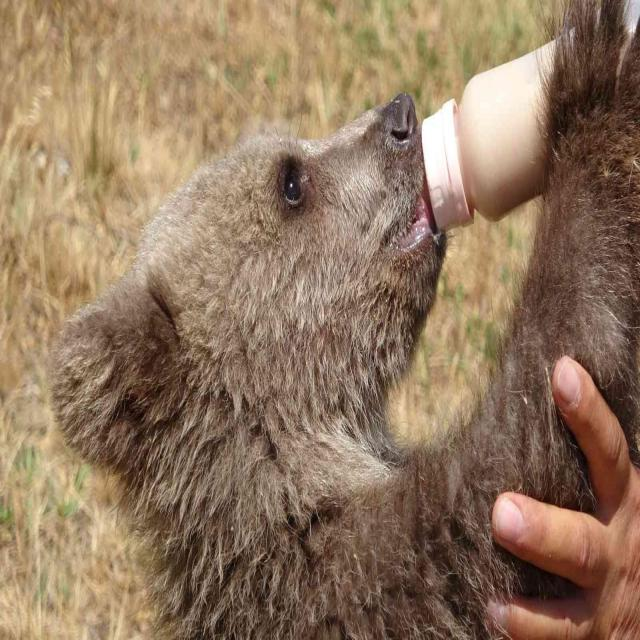Bear: (52, 0, 640, 640)
